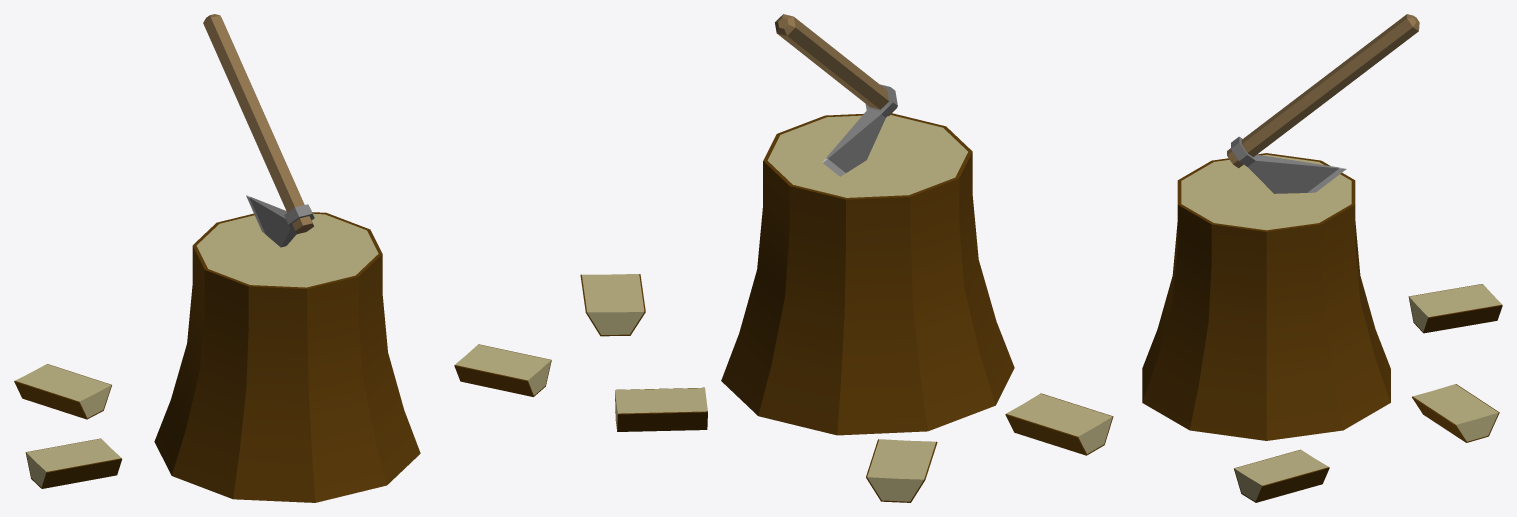
The model's file is Axe_And_Timber.fbx.
3 renders of one model, left to right at view 1: azimuth 30°, elevation 25°; view 2: azimuth 150°, elevation 25°; view 3: azimuth 270°, elevation 25°, orthographic. The views are drawn at different scales.
Visible parts, largest first — view 1: pCylinder1, pCylinder2, pCylinder3, pCylinder6, pCylinder5; view 2: pCylinder1, pCylinder2, pCylinder6, pCylinder4, pCylinder5, pCylinder3; view 3: pCylinder1, pCylinder2, pCylinder5, pCylinder3, pCylinder4.
Boxes of the visible parts, x1,y1,x2,y2 form: pCylinder1: (154, 212, 420, 502); pCylinder2: (203, 14, 314, 247); pCylinder3: (454, 344, 551, 396); pCylinder6: (25, 438, 121, 488); pCylinder5: (14, 364, 111, 419); pCylinder1: (721, 113, 1014, 435); pCylinder2: (775, 14, 897, 176); pCylinder6: (1005, 393, 1113, 455); pCylinder4: (615, 387, 707, 431); pCylinder5: (866, 439, 937, 502); pCylinder3: (580, 274, 645, 336); pCylinder1: (1142, 153, 1390, 440); pCylinder2: (1227, 14, 1419, 193); pCylinder5: (1408, 284, 1502, 333); pCylinder3: (1234, 449, 1329, 502); pCylinder4: (1412, 384, 1499, 442).
Size of the model in its own units: 418 by 306 by 271.
